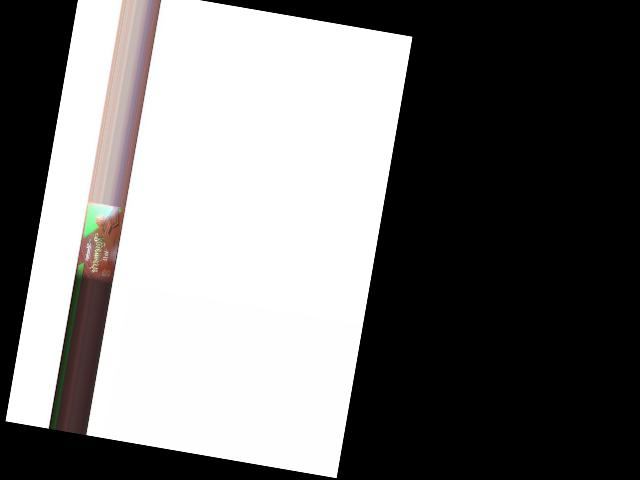chocolate: (75, 202, 124, 285)
